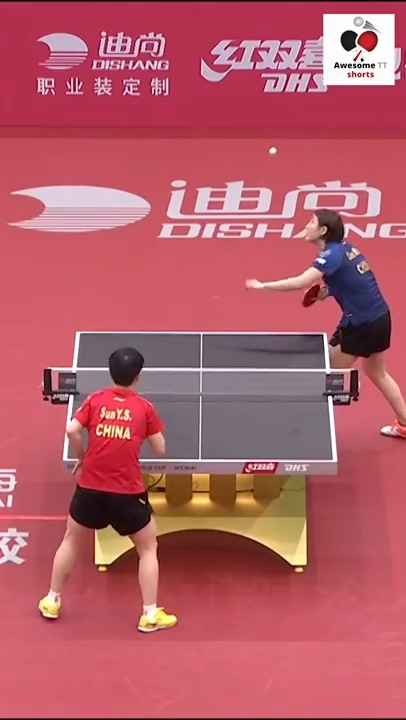Ball: (267, 147, 280, 157)
